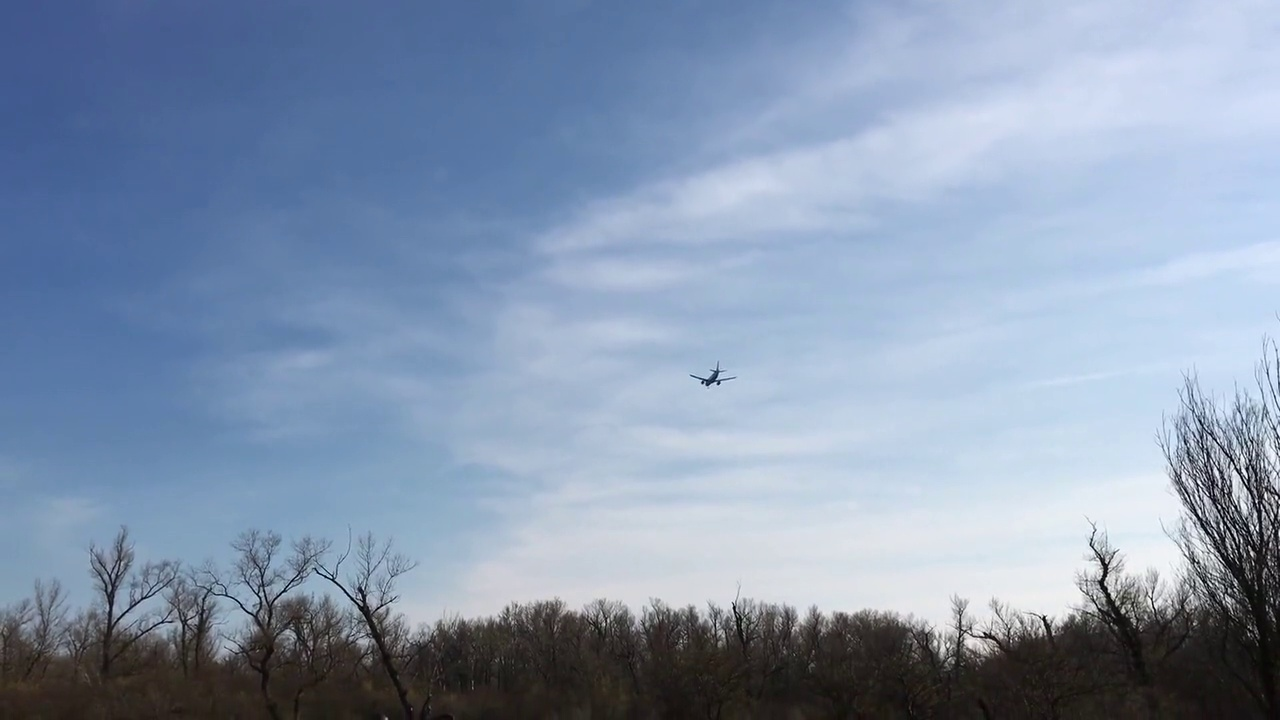plane: (690, 360, 735, 389)
